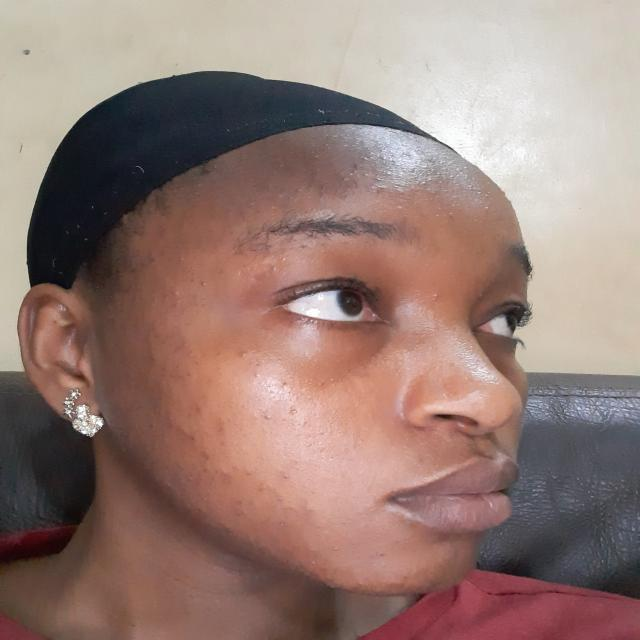Acne: (278, 488, 346, 521), (168, 434, 205, 474), (368, 172, 406, 208)
